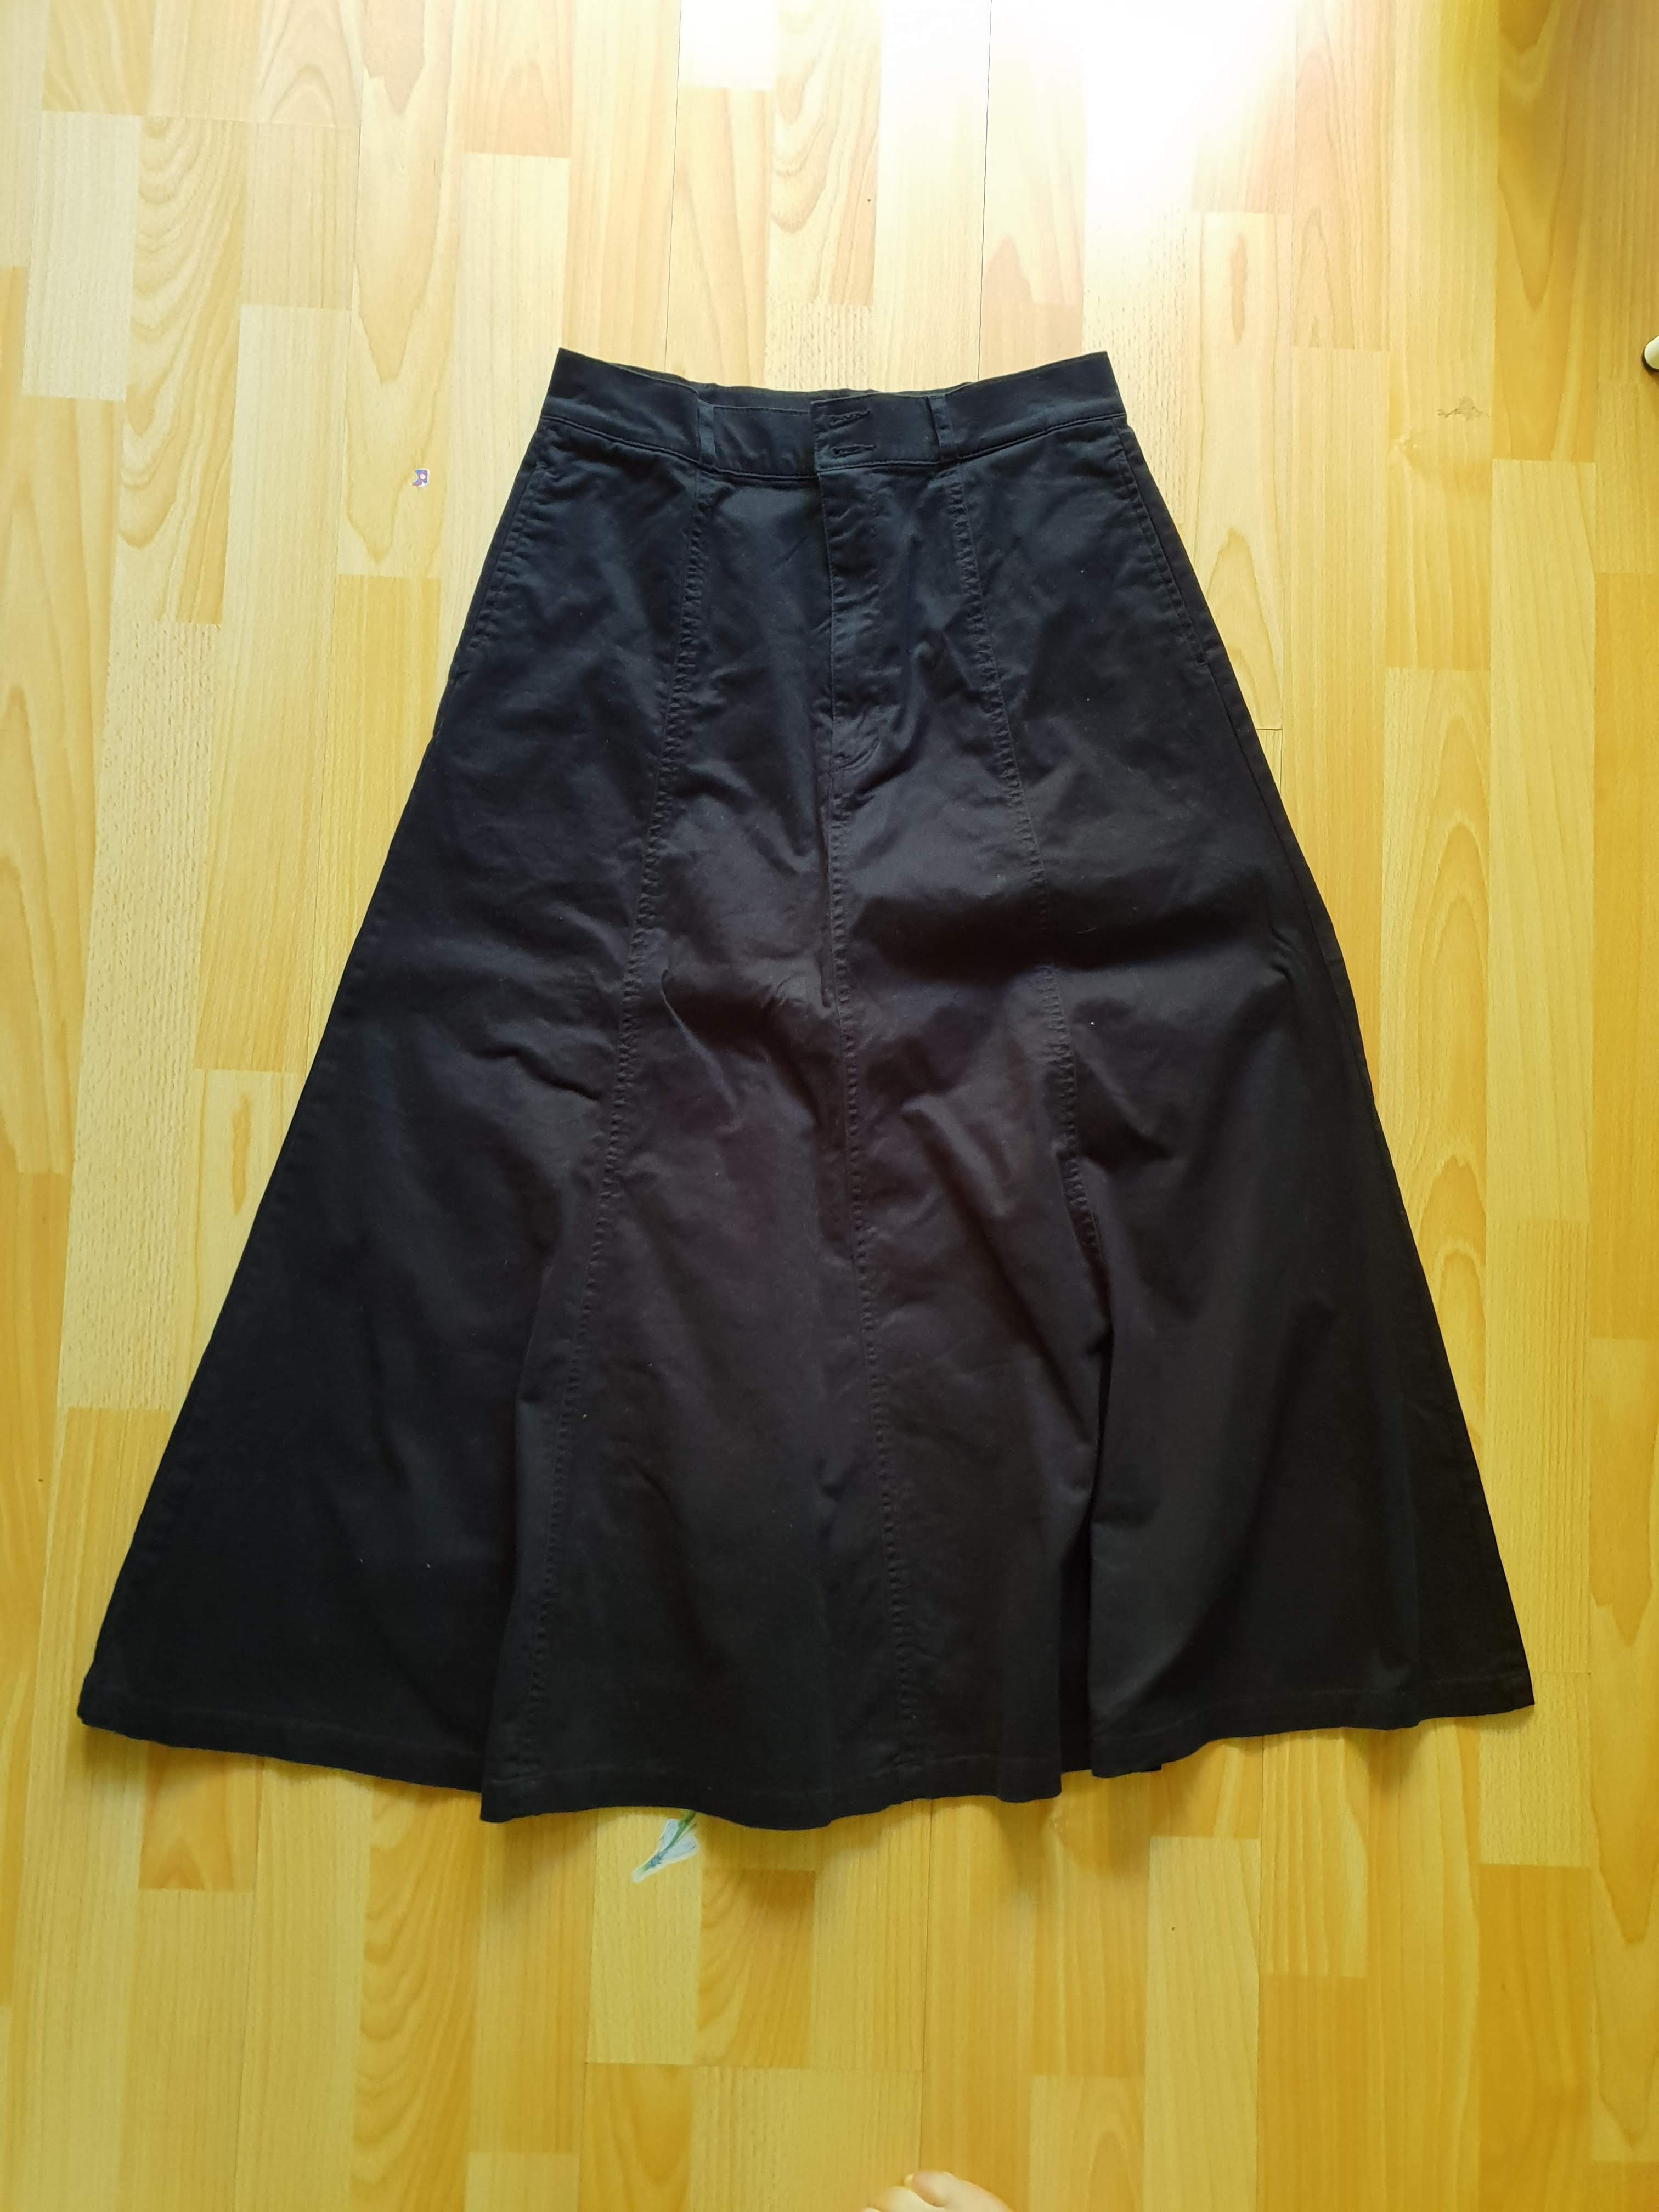clothes: (122, 326, 1542, 1789)
